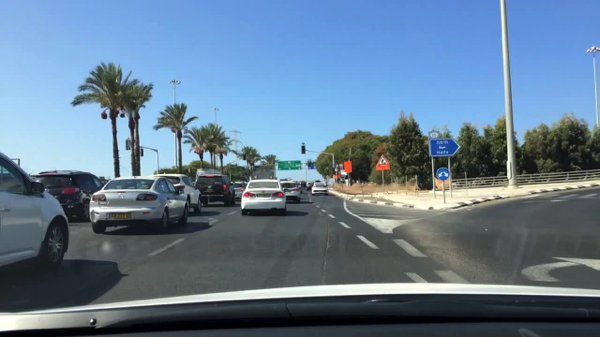car: (0, 151, 69, 277), (89, 176, 190, 234), (33, 169, 104, 219), (152, 174, 201, 212), (240, 179, 286, 215), (194, 175, 236, 206), (280, 182, 301, 204), (232, 183, 247, 200), (311, 183, 328, 196), (197, 169, 221, 176), (291, 180, 302, 193), (306, 183, 316, 191), (306, 181, 314, 187), (300, 180, 306, 187), (102, 179, 108, 185), (279, 179, 288, 181), (316, 180, 321, 183)
traffic light: (126, 140, 131, 150), (301, 146, 305, 154), (141, 149, 144, 157)
traffic sign: (429, 139, 460, 156), (277, 161, 301, 170), (436, 168, 450, 180), (377, 154, 389, 164), (375, 165, 390, 171), (344, 162, 352, 173), (428, 132, 438, 139), (308, 163, 315, 169), (335, 164, 342, 169), (341, 170, 347, 175), (335, 175, 340, 179), (301, 143, 305, 145)
